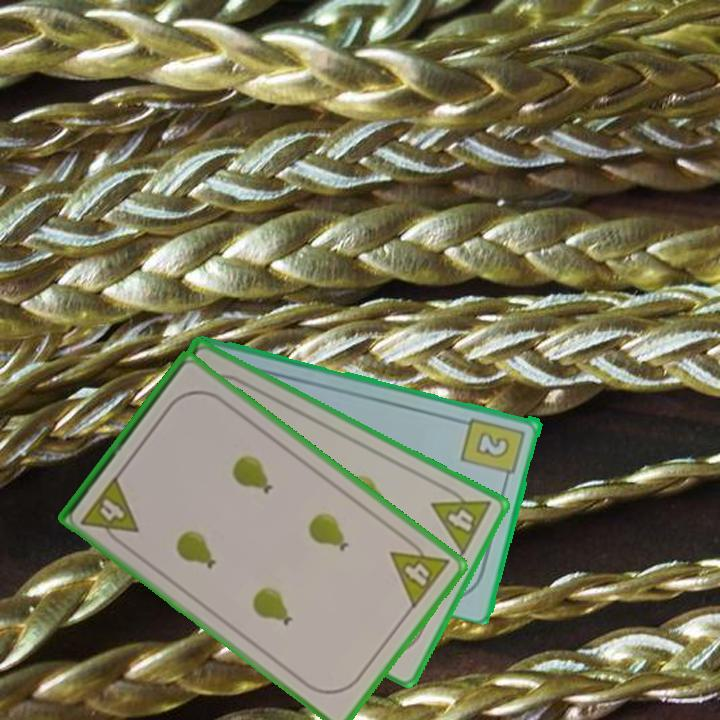2b: (458, 414, 528, 485)
4p: (386, 531, 452, 612), (428, 480, 494, 558), (77, 472, 142, 550)
